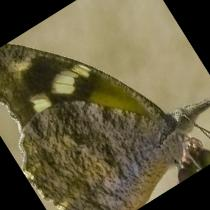butterfly: (0, 43, 210, 210)
